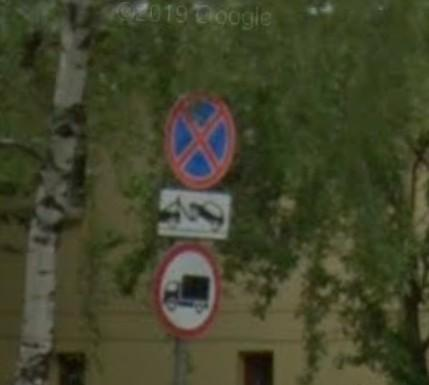No Parking: (162, 87, 240, 192)
